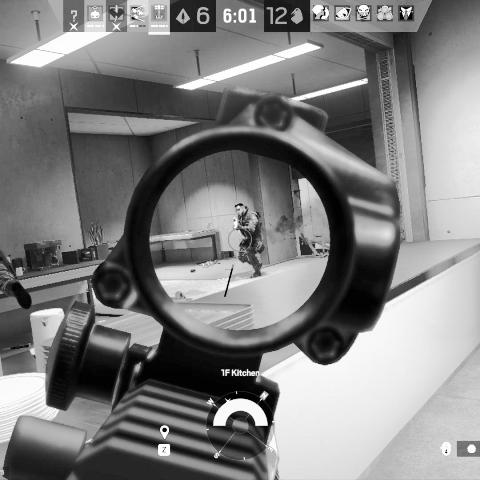Character: (232, 202, 267, 280), (0, 250, 36, 311)
Head: (234, 202, 245, 215)
